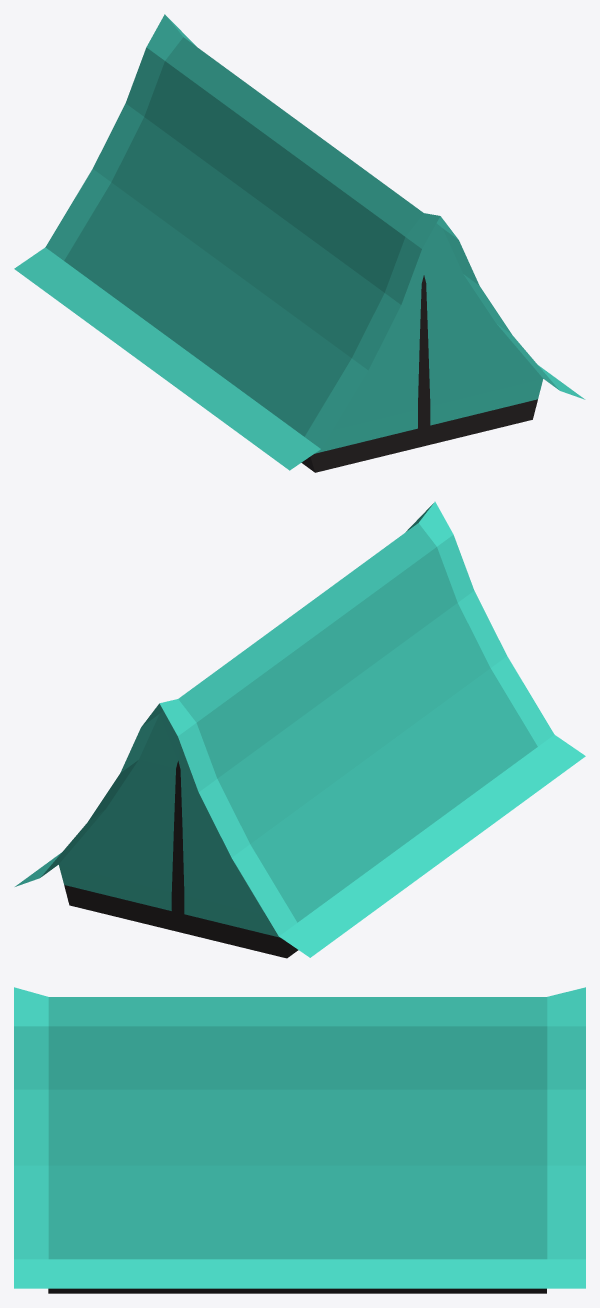
File: Tent_Small_05.fbx
3 renders of one model, top to bottom at view 1: azimuth 30°, elevation 25°; view 2: azimuth 150°, elevation 25°; view 3: azimuth 270°, elevation 25°, orthographic. The views are drawn at different scales.
Parts seen in each view (by area): view 1: Tent_Small_05; view 2: Tent_Small_05; view 3: Tent_Small_05.
Part boxes in pixels (x1,y1,x2,y2): Tent_Small_05: (14, 14, 585, 472); Tent_Small_05: (15, 501, 585, 958); Tent_Small_05: (14, 987, 585, 1293).
Bounding box in the file's own units: 2.23 × 1.74 × 3.59.
